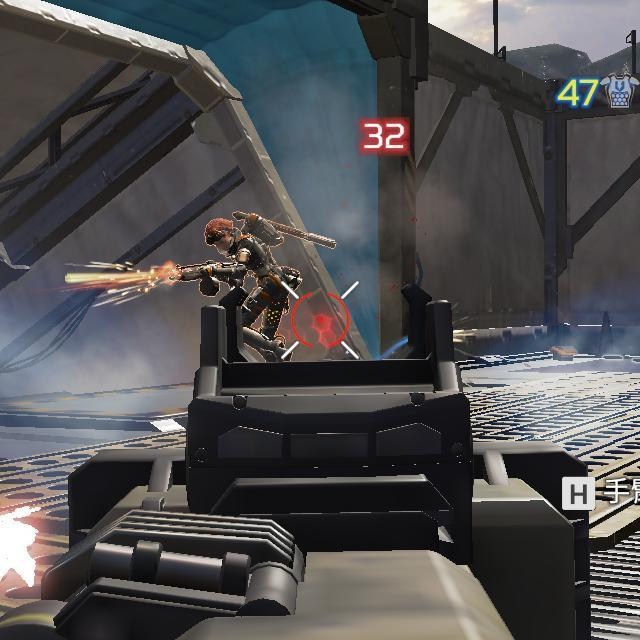avatar: (202, 214, 304, 364)
